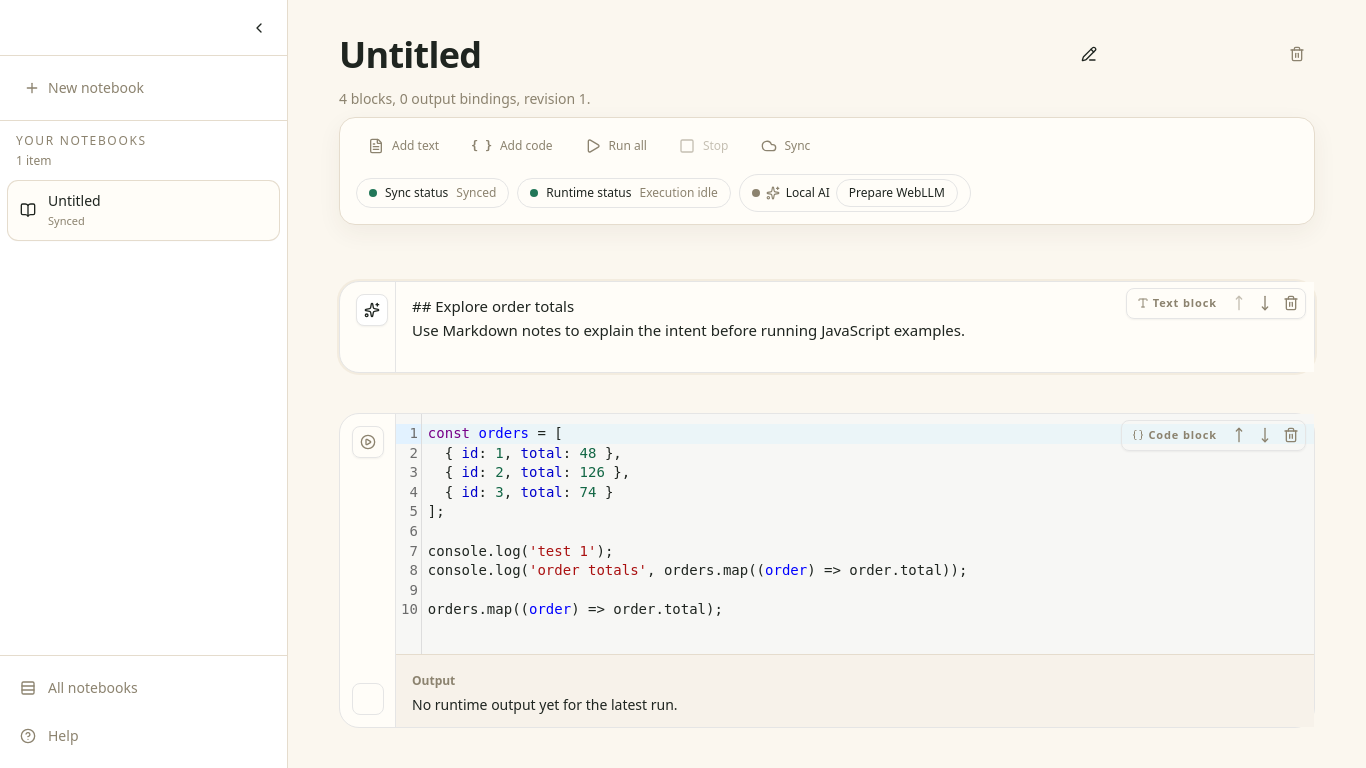
Scenario: NotebookEditorPage › inserts a new code block after the source text block when the next block is not empty
Click the button named "Generate code from blk_intro".
click(372, 310)  # box [356, 294, 388, 326]
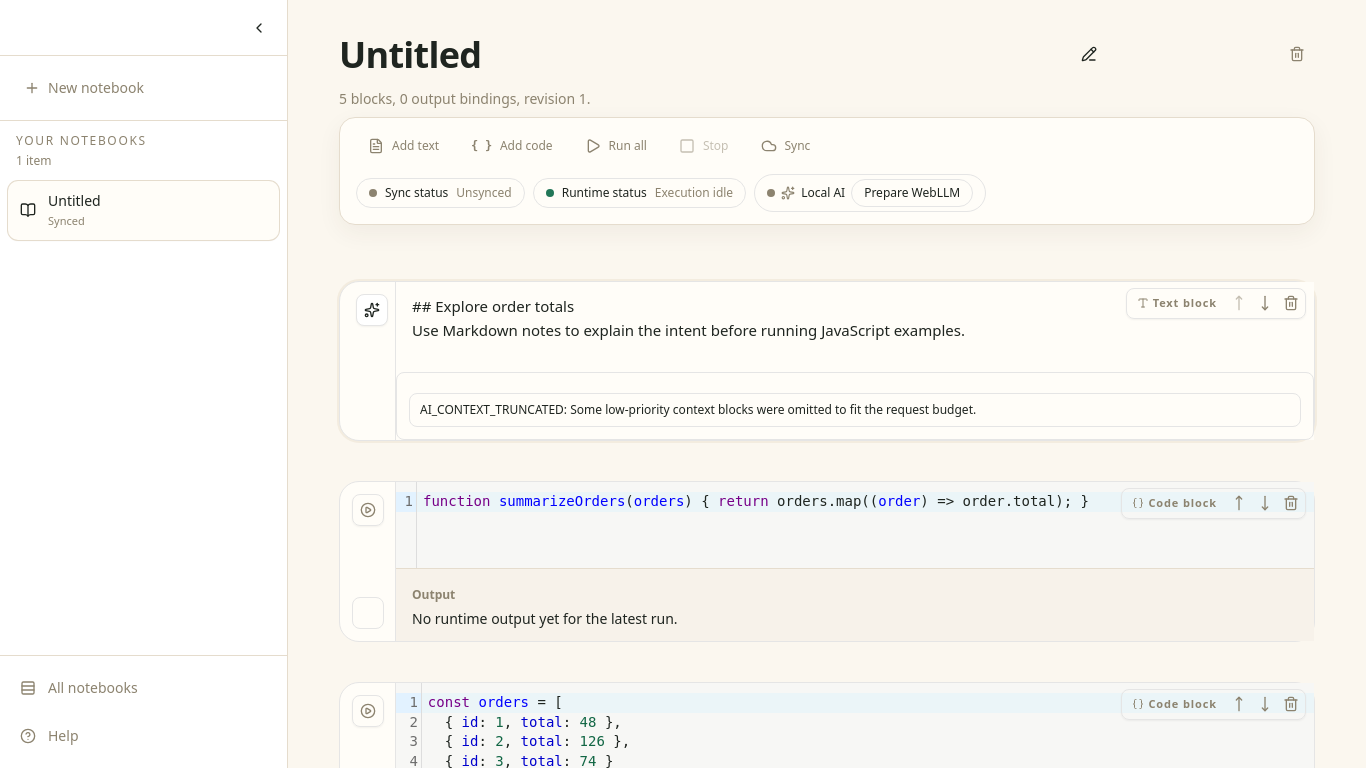
Expected: the list item "AI_CONTEXT_TRUNCATED:" is shown, [420, 401, 976, 418]
Expected: the number of elements named "JavaScript code block" is 3
Expected: the element named "Run blk_new_code_1" is shown, [339, 481, 1315, 642]
